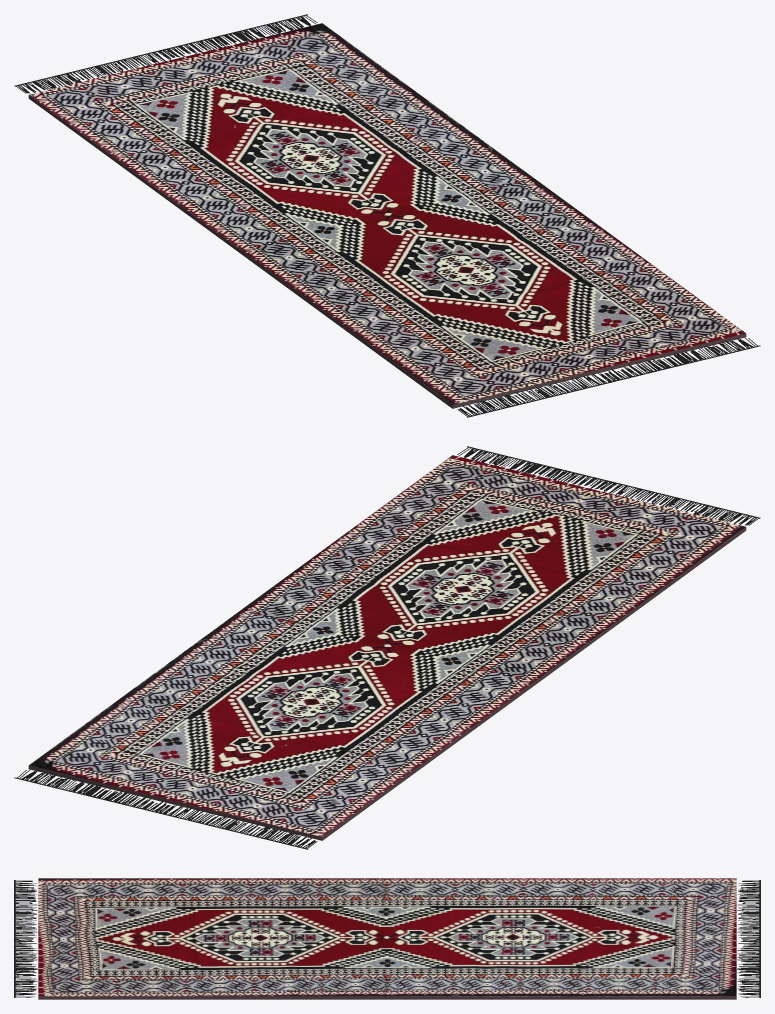
The picture shows the model from 3 angles, top to bottom: view 1: azimuth 30°, elevation 25°; view 2: azimuth 150°, elevation 25°; view 3: azimuth 270°, elevation 25°; orthographic projection. The views are drawn at different scales.
Parts seen in each view (by area): view 1: rug, side, fringeB, fringeA; view 2: rug, side, fringeA, fringeB; view 3: rug, side, fringeB, fringeA.
Part boxes in pixels (x1,y1,x2,y2): rug: (29,23,745,404); side: (28,95,746,408); fringeB: (457,338,760,417); fringeA: (14,14,317,93); rug: (29,455,745,836); side: (28,527,746,840); fringeA: (14,770,317,849); fringeB: (457,446,760,525); rug: (38,878,736,996); side: (38,996,736,999); fringeB: (14,880,37,997); fringeA: (737,880,760,997).
Size of what is drawn, in the model's own units: 0.8 by 0.0102 by 2.14.
2 materials, 2 textured.
